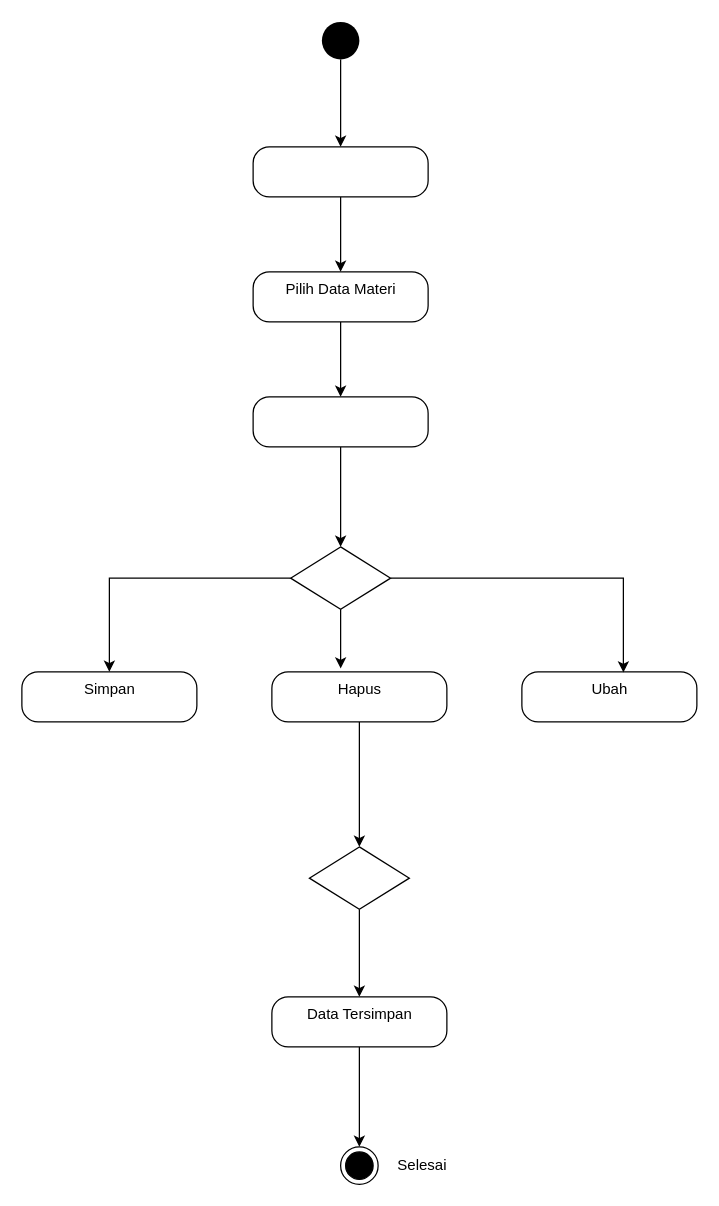
This 719x1206 diagram has some shape labels left out. The centre of each missing label's shape, as x and y in pixels:
"Masuk ke menu utama" goes at (x=340, y=171).
"Menampilkan Data Materi" goes at (x=340, y=421).
